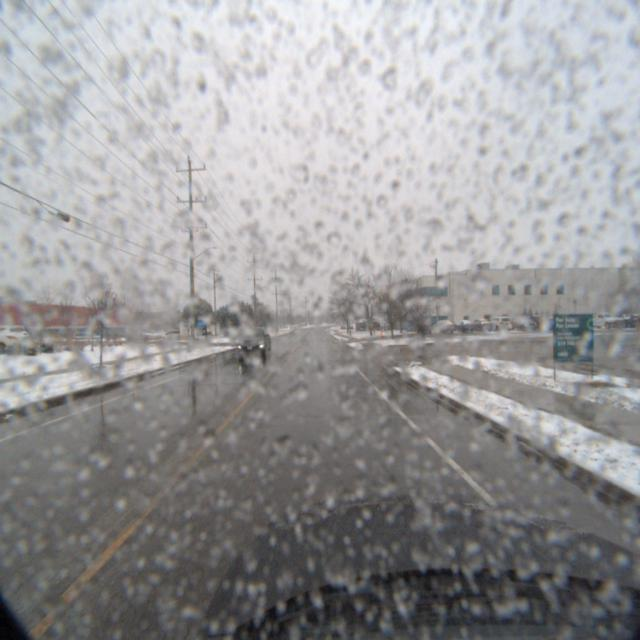Car: (436, 320, 458, 333)
Truck: (585, 312, 632, 330)
